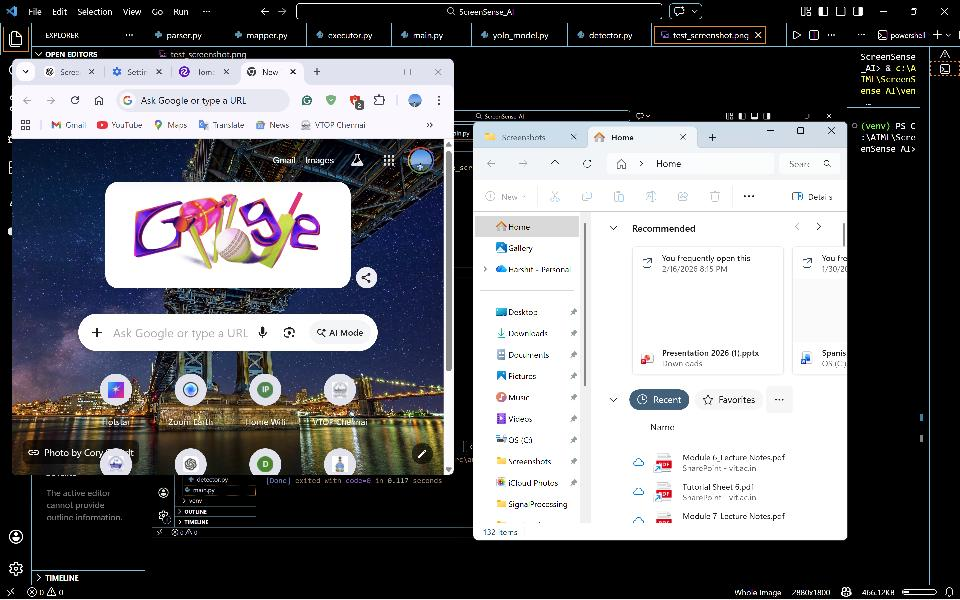close_button: (426, 63, 451, 83), (822, 124, 844, 144), (934, 3, 955, 18)
maximize_button: (397, 61, 420, 82), (790, 123, 813, 142), (907, 4, 923, 21)
minimize_button: (366, 61, 391, 85), (873, 4, 900, 21), (761, 124, 783, 144)
